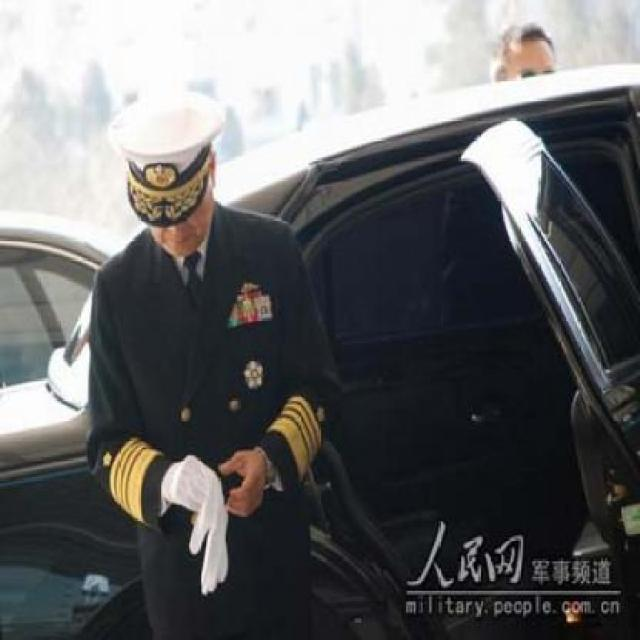face_nomask: (146, 179, 205, 263)
hand_glove: (163, 454, 206, 511)
hand_noglove: (217, 449, 265, 517)
head_nohelmet: (90, 108, 228, 218), (485, 12, 569, 66)
person: (73, 83, 330, 640)
